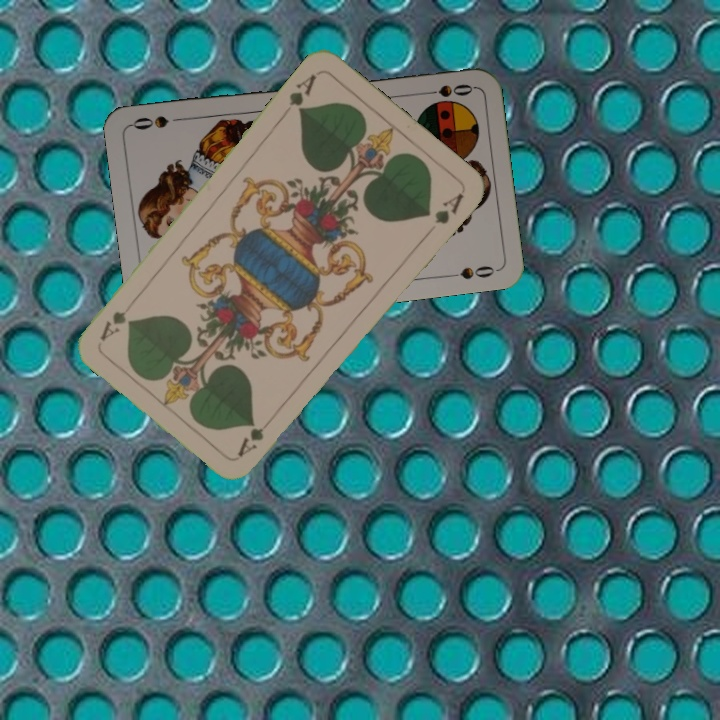GA: (233, 413, 278, 460), (284, 70, 319, 116)
SO: (416, 80, 476, 100)
